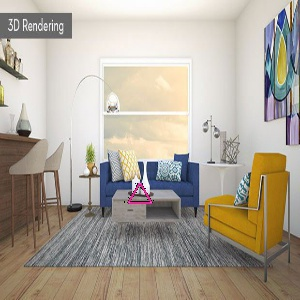triangle: (125, 179, 156, 209)
